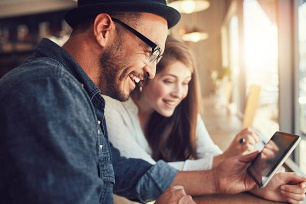female: (157, 53, 196, 124)
male: (88, 6, 166, 105)
